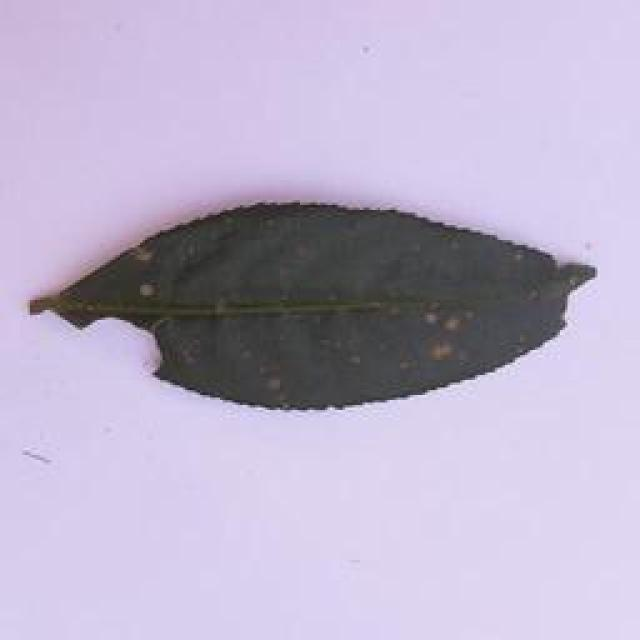Algal Leaf Spot: (12, 188, 603, 428)
